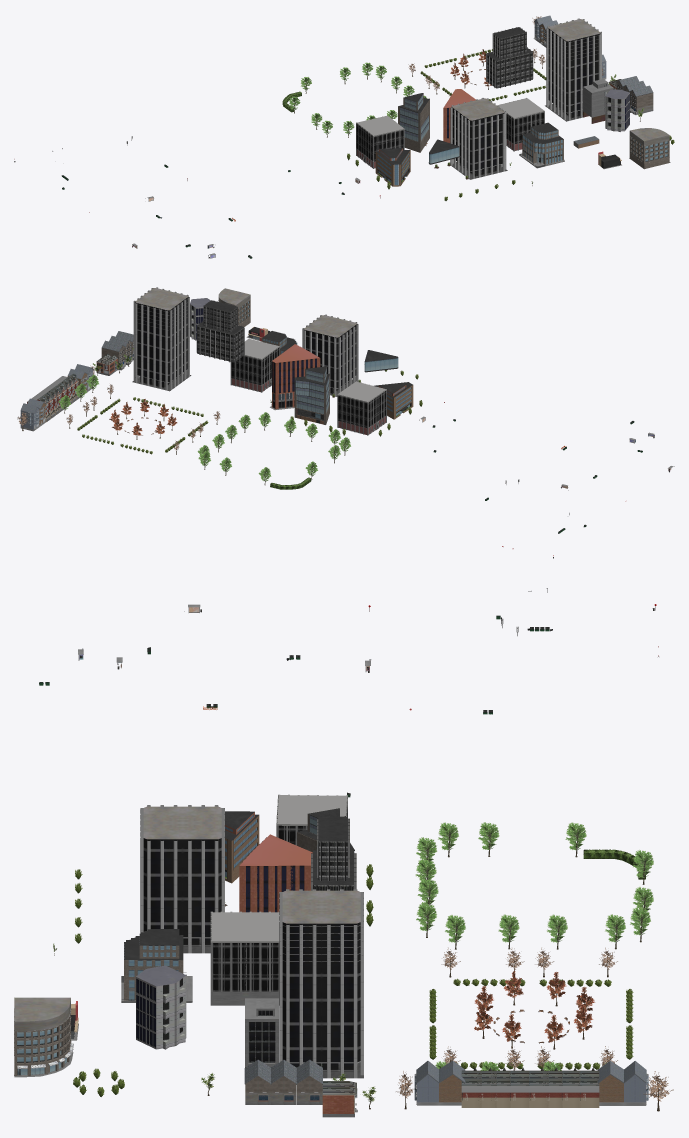
File: chunk.glb
The picture shows the model from 3 angles, top to bottom: view 1: azimuth 30°, elevation 25°; view 2: azimuth 150°, elevation 25°; view 3: azimuth 270°, elevation 25°; orthographic projection. The views are drawn at different scales.
Parts seen in each view (by area): view 1: deco_Building_0_0, deco_Vegetation_0_0; view 2: deco_Building_0_0, deco_Vegetation_0_0; view 3: deco_Building_0_0, deco_Vegetation_0_0, deco_Accesories_-1_0.
Part boxes in pixels (x1,y1,x2,y2): deco_Building_0_0: (356,15,670,186); deco_Vegetation_0_0: (282,16,674,200); deco_Building_0_0: (20,287,413,435); deco_Vegetation_0_0: (17,348,422,489); deco_Building_0_0: (14,794,648,1117); deco_Vegetation_0_0: (53,822,673,1111); deco_Accesories_-1_0: (39,588,658,797).
Bounding box in the file's own units: 468 × 75.86 × 257.
3 materials, 3 textured.
